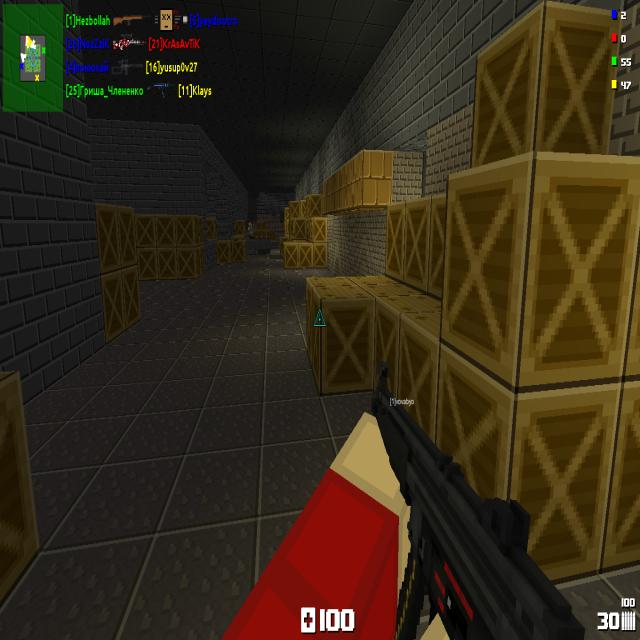enemy: (248, 222, 254, 238)
